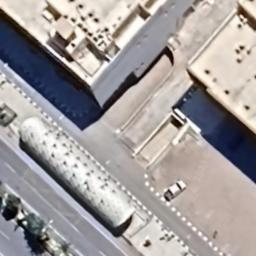pickup: (162, 178, 190, 202)
